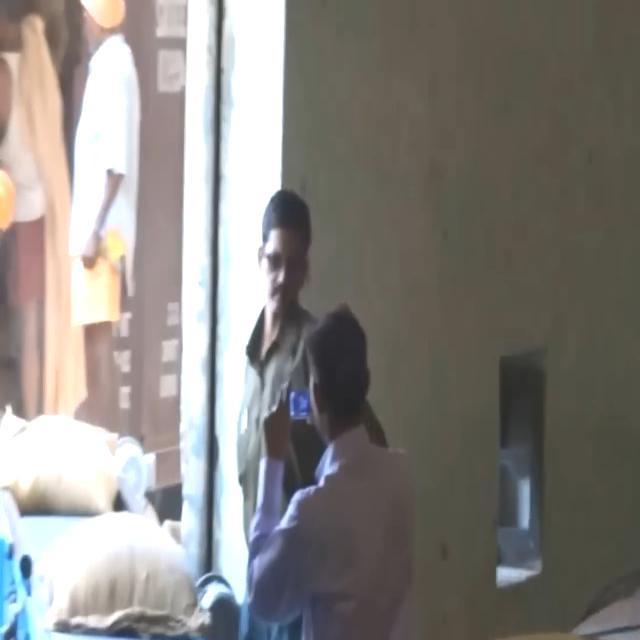gunny_bag: (43, 513, 215, 640), (2, 412, 125, 515)
